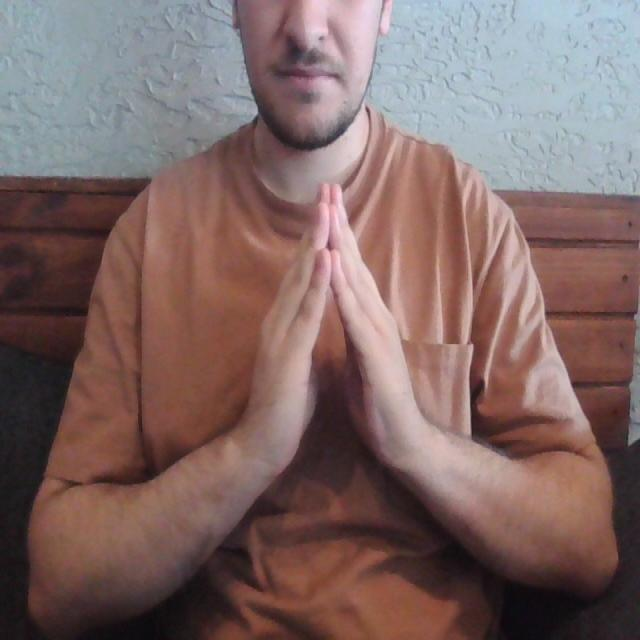Ev: (225, 176, 425, 472)
